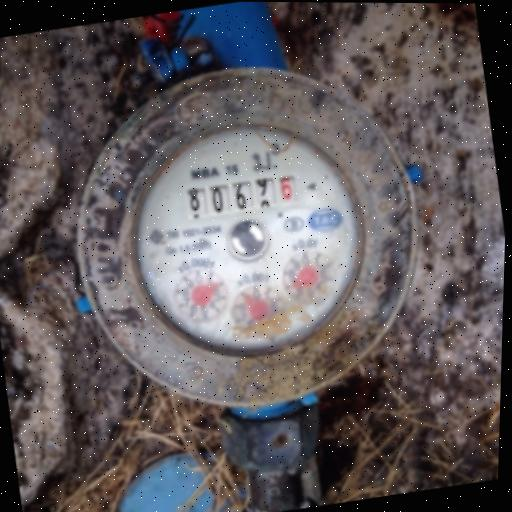0: (209, 185, 232, 212)
6: (231, 180, 251, 206), (278, 176, 298, 202)
8: (185, 188, 208, 216)
9: (255, 178, 278, 205)
border_water_meter_number: (177, 167, 306, 223)
